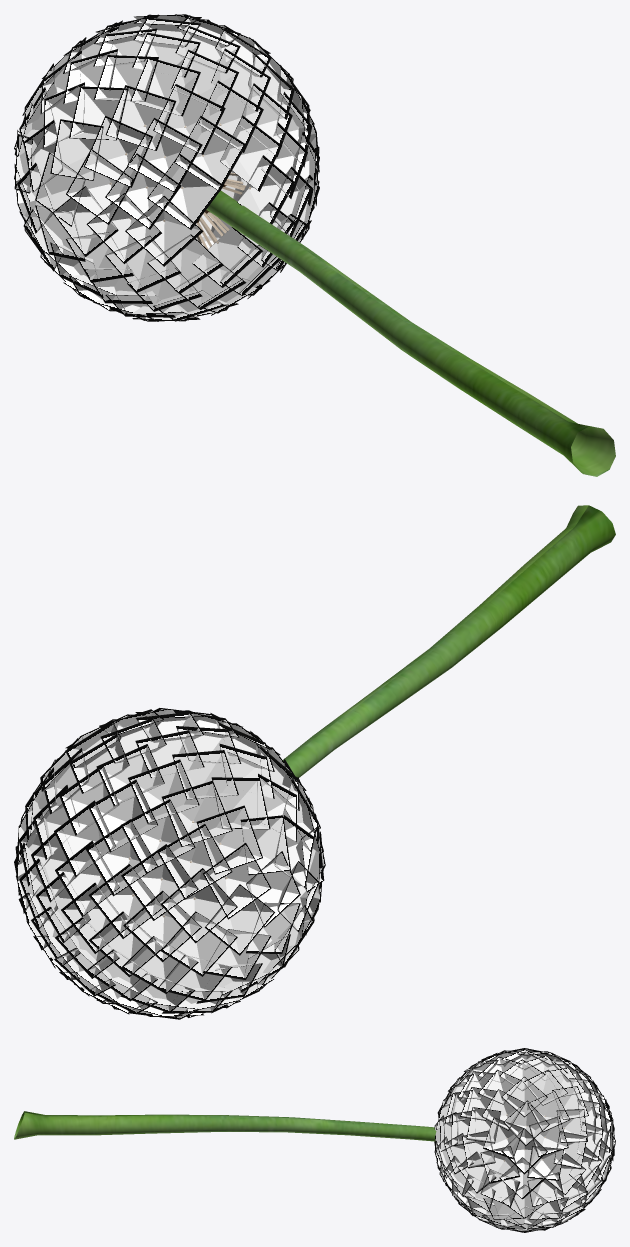
Rendered from dandelion_compressed.glb.
3 renders of one model, top to bottom at view 1: azimuth 30°, elevation 25°; view 2: azimuth 150°, elevation 25°; view 3: azimuth 270°, elevation 25°, orthographic. The views are drawn at different scales.
Visible parts, largest first — view 1: dandelion; view 2: dandelion; view 3: dandelion.
Boxes of the visible parts, box(x1,y1,x2,y2) form: dandelion: box(14, 14, 615, 476); dandelion: box(14, 505, 615, 1019); dandelion: box(14, 1048, 615, 1232).
Size of the model in its own units: 0.3041 by 0.3028 by 0.9897.
5 materials, 2 textured.
